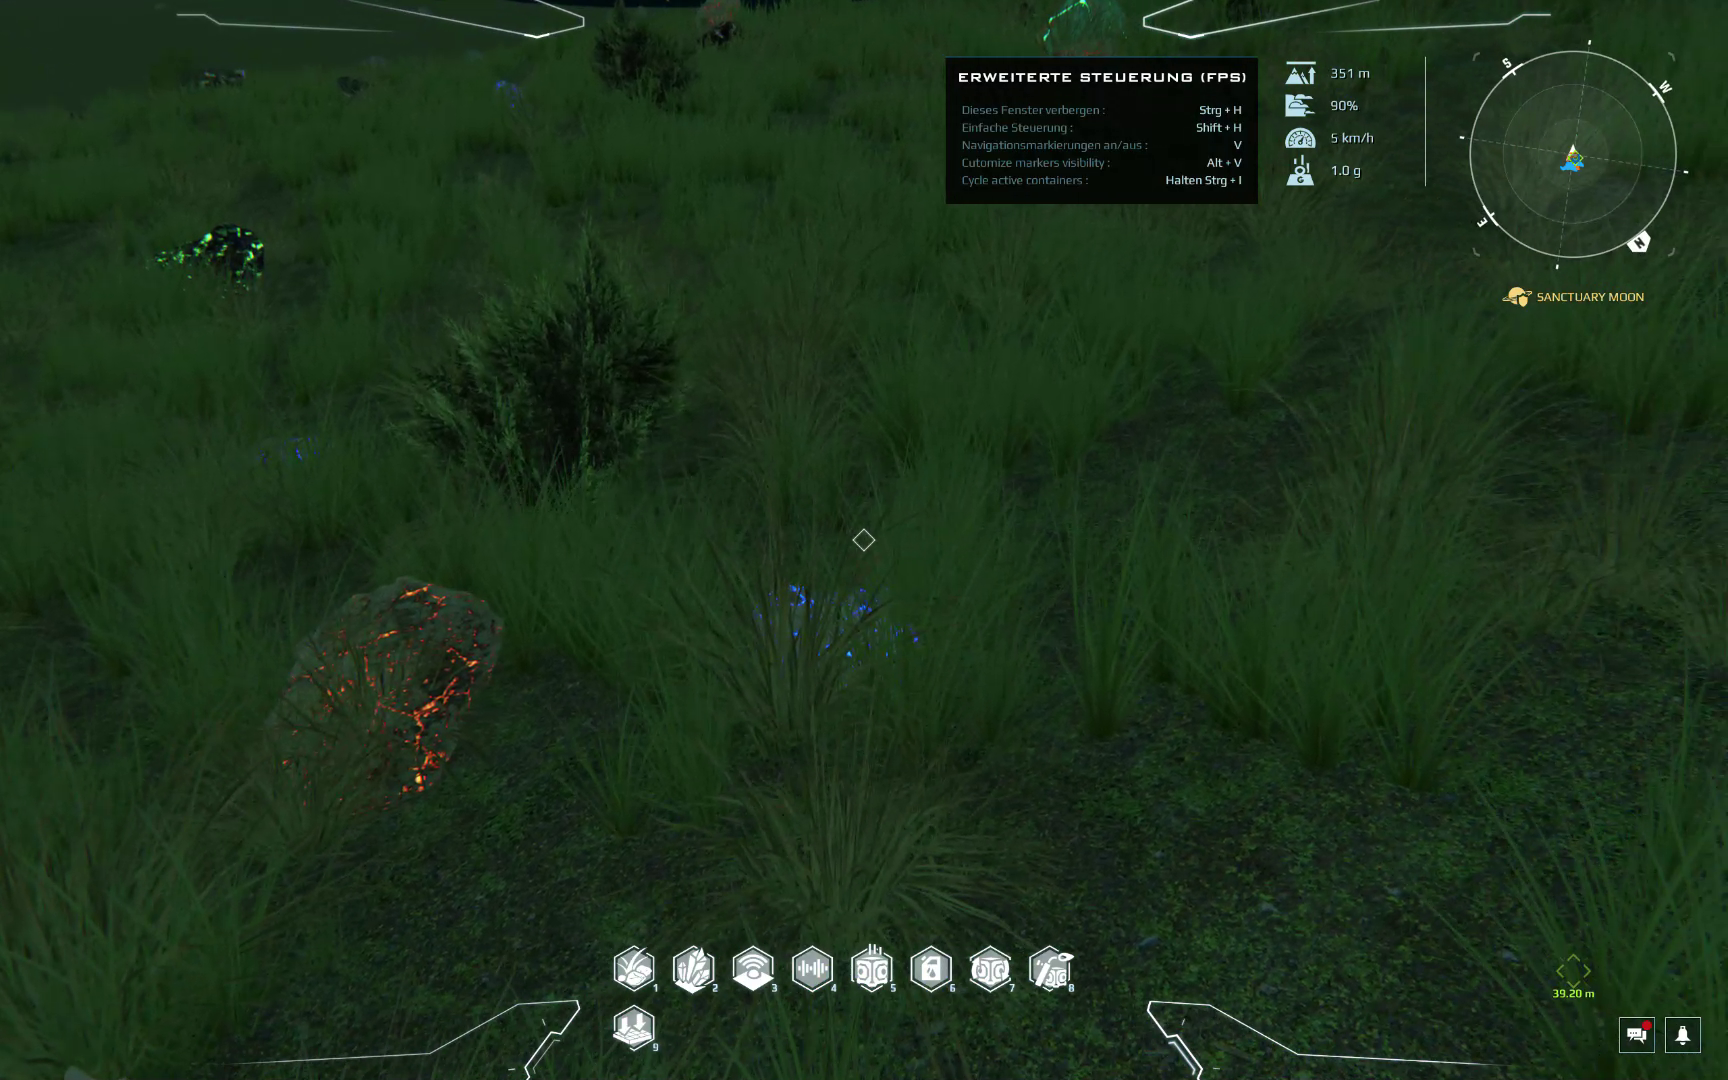Ore: (241, 575, 511, 859), (746, 569, 929, 679), (151, 220, 271, 300), (1028, 2, 1153, 56), (258, 424, 336, 482), (685, 16, 746, 54), (480, 72, 532, 114), (187, 66, 253, 96), (328, 73, 369, 100)
